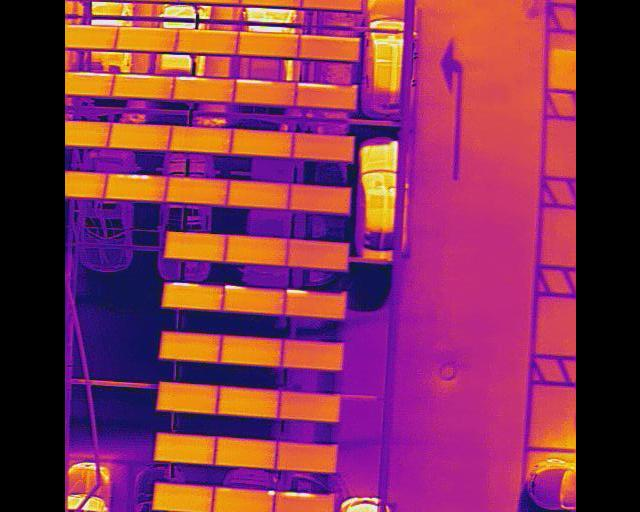Cell: (212, 488, 272, 512)
No-Anomaly: (218, 336, 281, 366), (285, 241, 347, 270), (222, 286, 284, 315), (226, 236, 285, 266), (281, 340, 342, 369), (162, 232, 225, 260), (284, 291, 344, 320), (278, 392, 338, 421), (215, 389, 278, 416), (159, 333, 219, 361), (214, 440, 275, 467), (154, 436, 215, 463), (152, 485, 212, 512), (275, 444, 336, 470), (158, 385, 216, 412), (288, 185, 348, 211), (236, 33, 298, 58), (226, 182, 288, 207), (293, 135, 352, 161), (298, 37, 359, 62), (232, 131, 293, 156), (175, 31, 236, 56), (161, 283, 222, 308), (164, 180, 227, 204), (116, 28, 176, 52), (168, 128, 230, 151), (105, 126, 169, 148), (241, 0, 302, 8), (179, 0, 240, 6)
Unclassified: (233, 81, 295, 106), (294, 84, 355, 108), (105, 175, 166, 199), (170, 78, 233, 101), (112, 75, 172, 98), (273, 494, 333, 512), (301, 0, 361, 11)
